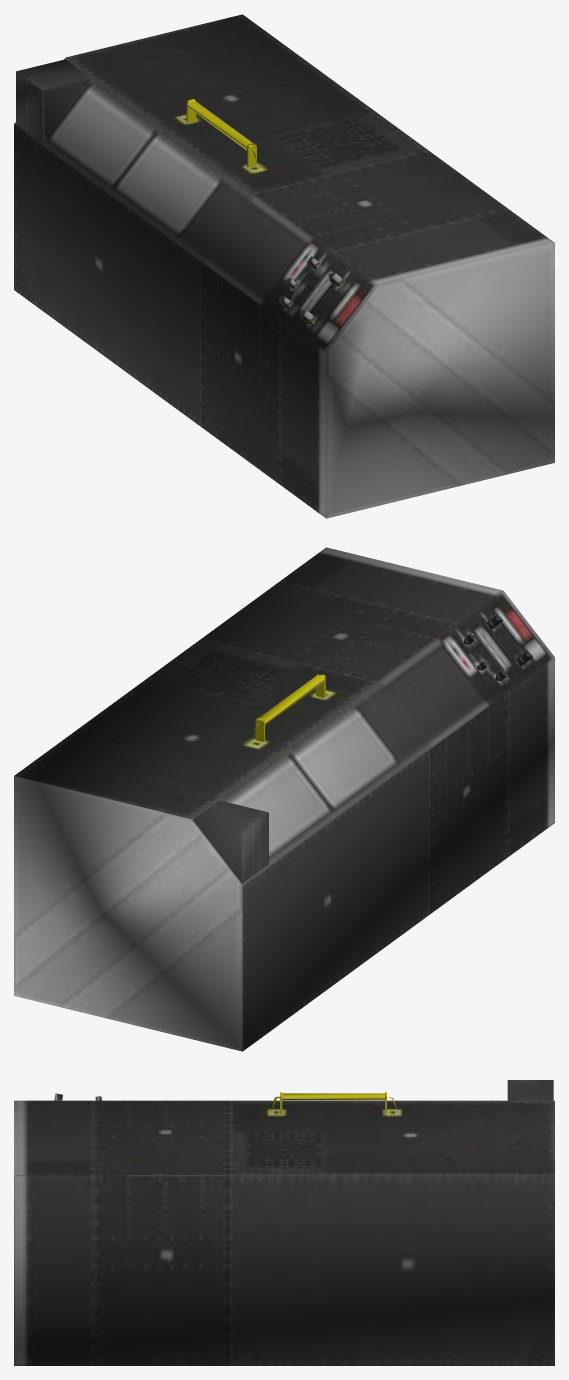
File: cosmic-origins-spectrograph.glb
3 views of the same model, one above another, from view 1: azimuth 30°, elevation 25°; view 2: azimuth 150°, elevation 25°; view 3: azimuth 270°, elevation 25° (orthographic). The views are drawn at different scales.
Parts seen in each view (by area): view 1: hubblespac; view 2: hubblespac; view 3: hubblespac.
Boxes of the visible parts, x1,y1,x2,y2 form: hubblespac: (14, 14, 554, 518); hubblespac: (14, 547, 554, 1051); hubblespac: (14, 1080, 554, 1365).
Bounding box in the file's own units: 67.66 × 67.88 × 159.
1 material, 1 textured.
